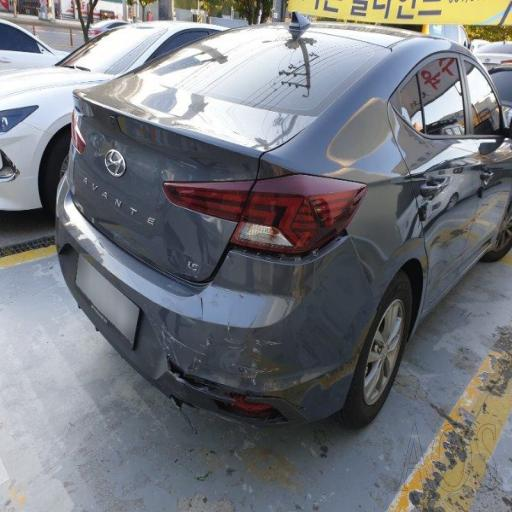scratch: (143, 296, 368, 428)
